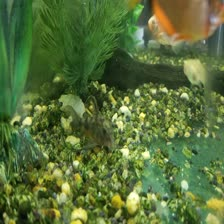Kiros: (57, 92, 121, 154)
